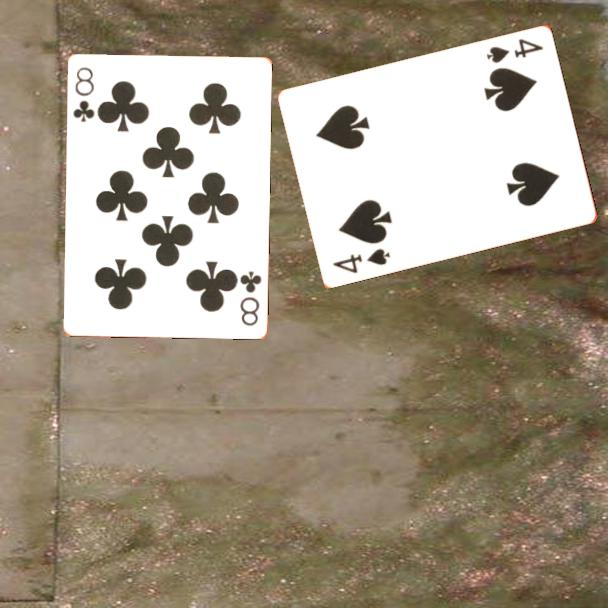c08: (236, 268, 264, 328), (70, 63, 97, 124)
s04: (329, 244, 393, 276), (483, 35, 546, 66)
